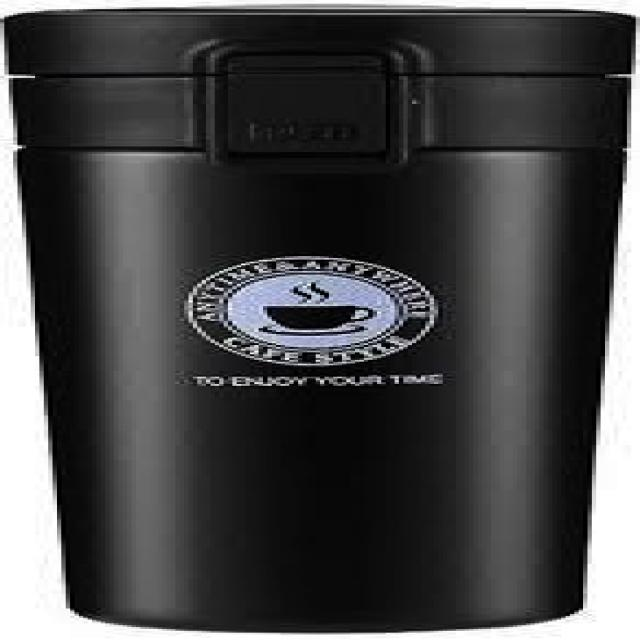bottle: (4, 3, 640, 635)
